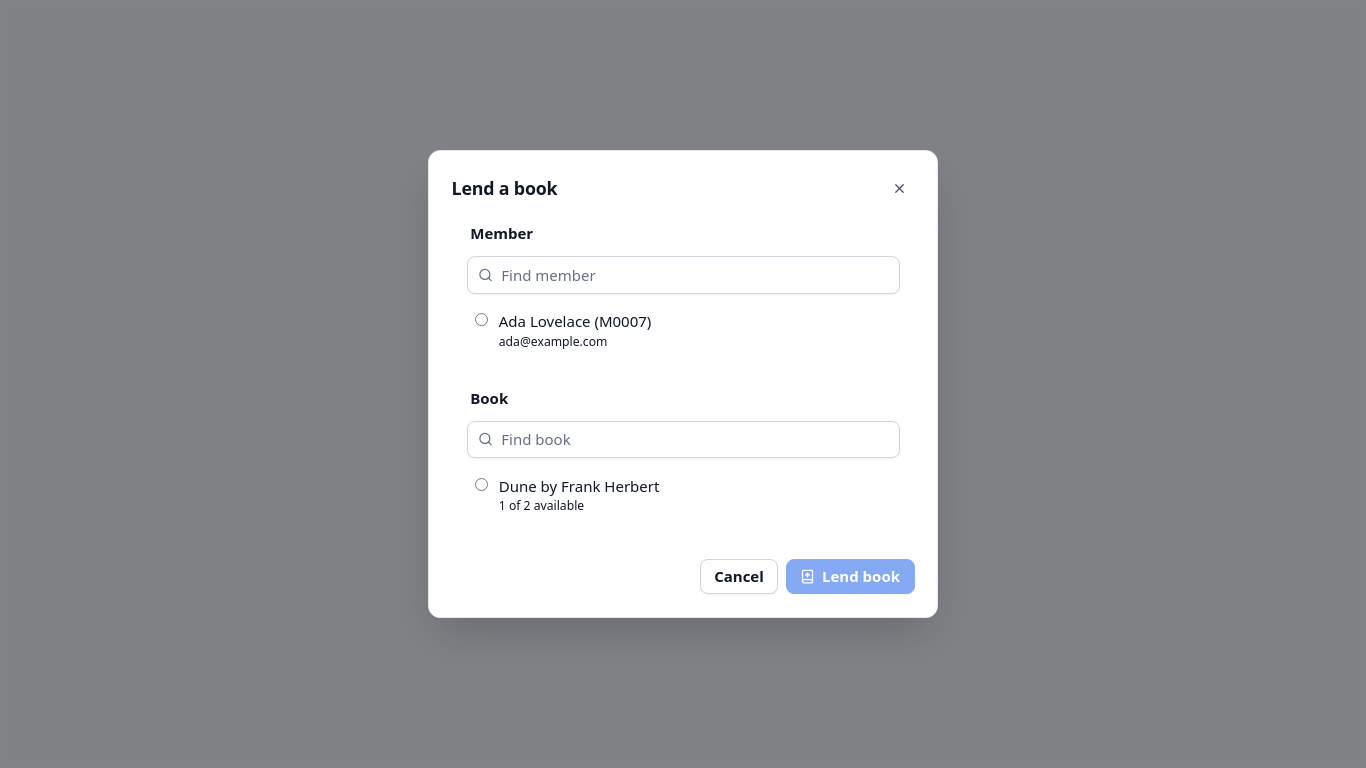
BorrowDialog › explains a refused loan (NO_COPIES_AVAILABLE) and stays open
What coordinates should you click on to do the following:
click the radio button labelled "Ada Lovelace (M0007) ada@example.com"
I would click on:
 (482, 320)
Its box is [475, 313, 488, 326].
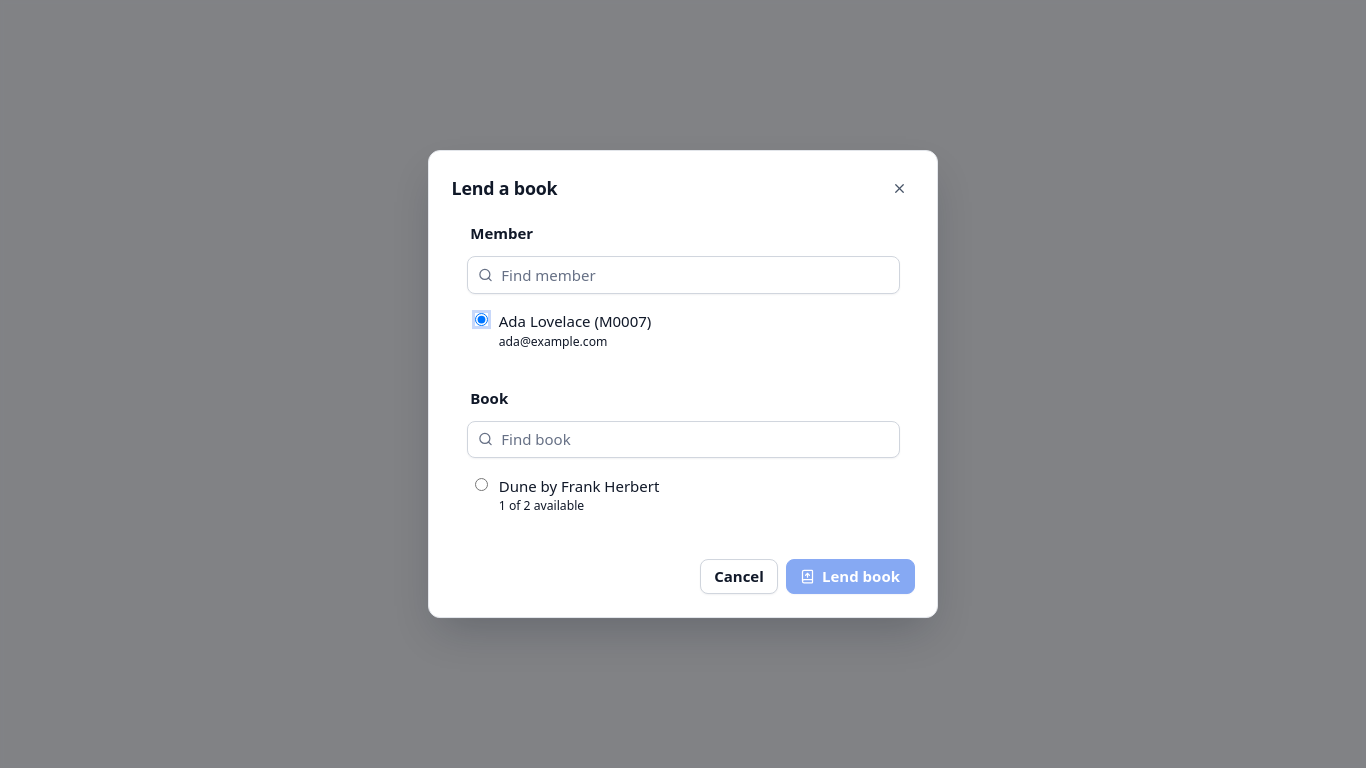
What coordinates should you click on to do the following:
click the radio button labelled "Dune by Frank Herbert 1 of 2 available"
I would click on:
 (482, 484)
Its box is [475, 478, 488, 491].
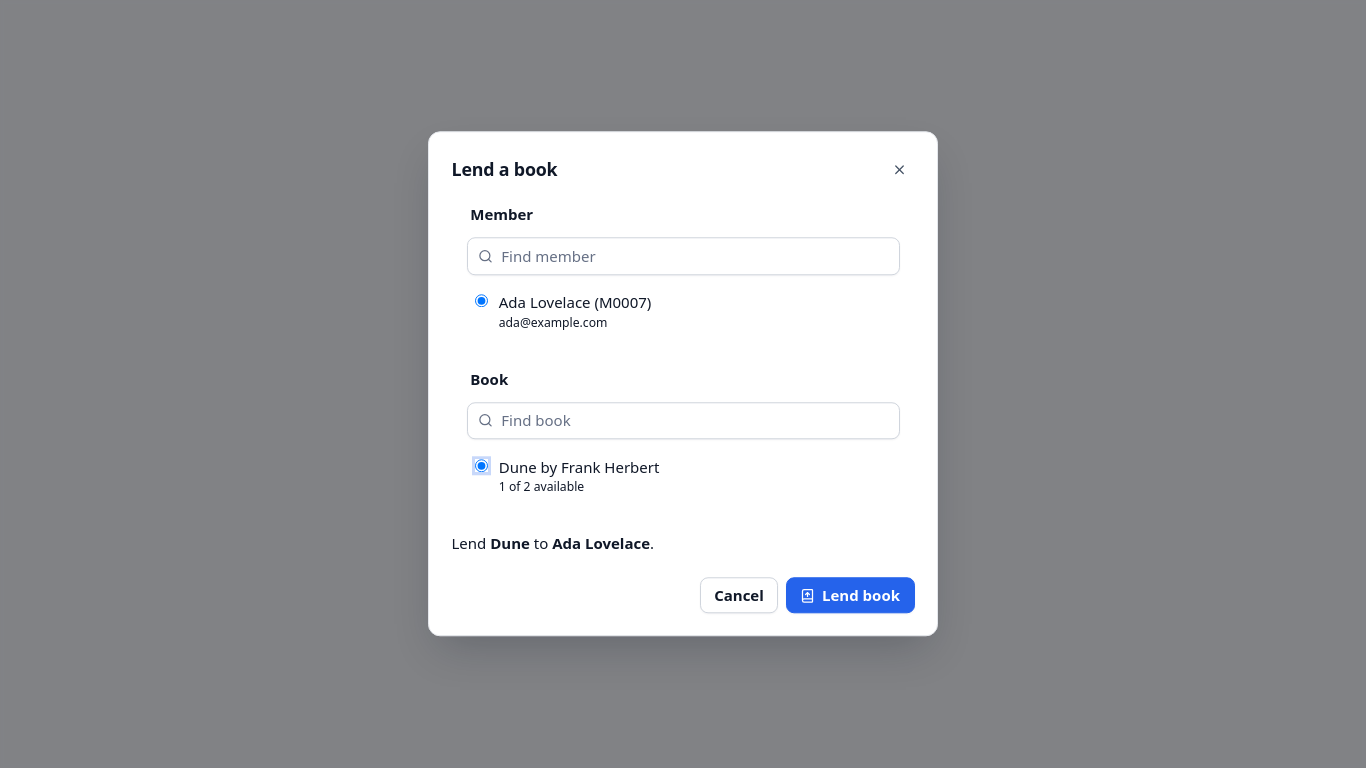
What coordinates should you click on to do the following:
click the button "Lend book"
I would click on:
 (850, 595)
Its box is [786, 578, 914, 613].
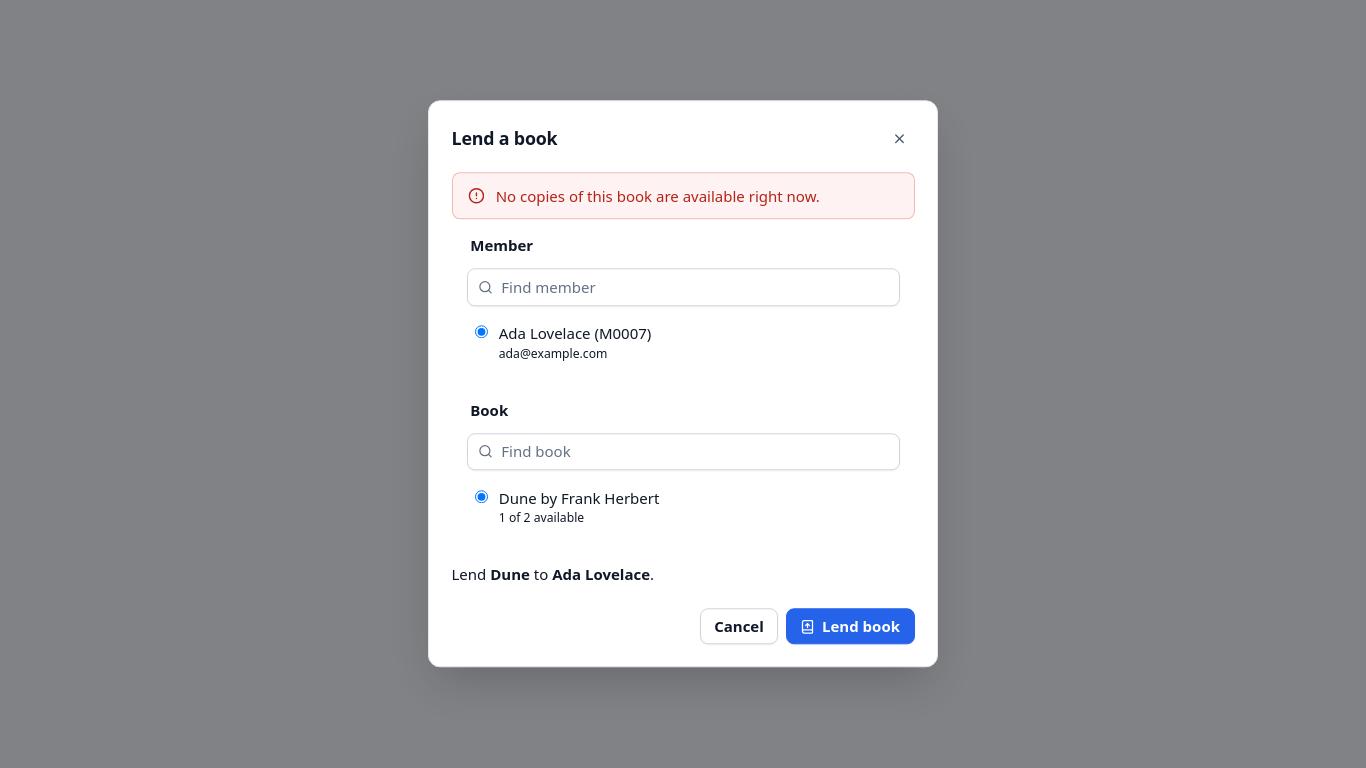
Now the message "No copies of this book are available right now." is shown, box [452, 172, 914, 220]
